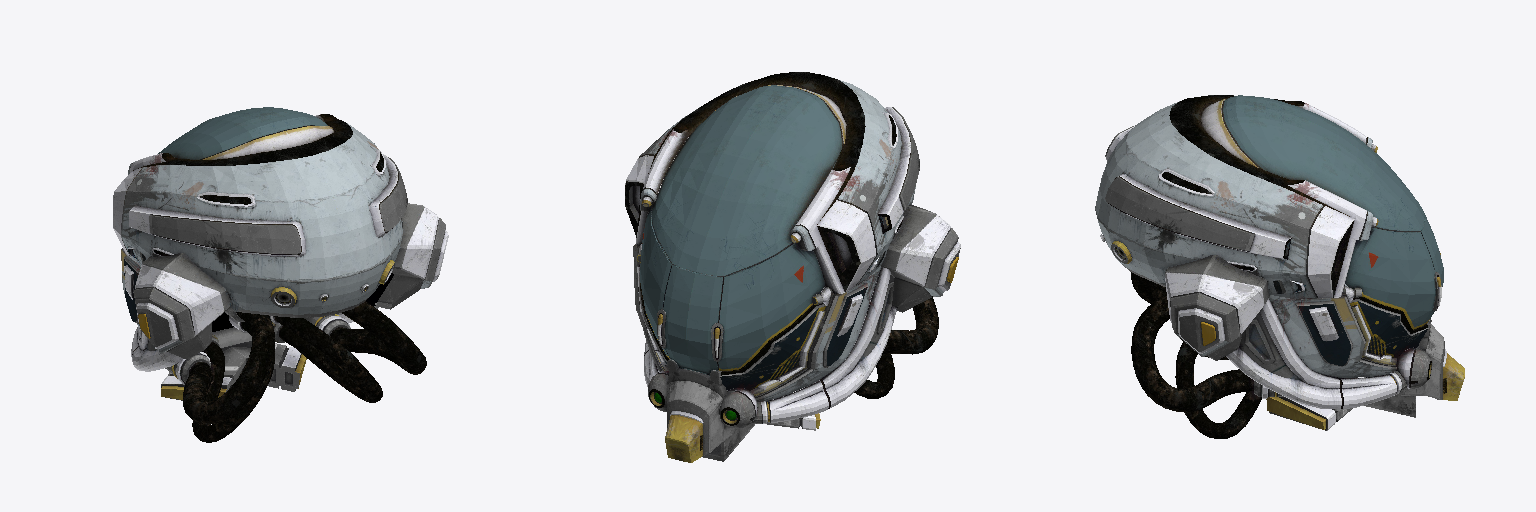
The picture shows the model from 3 angles: view 1: azimuth 30°, elevation 25°; view 2: azimuth 150°, elevation 25°; view 3: azimuth 270°, elevation 25°; orthographic projection.
Parts seen in each view (by area): view 1: helmet; view 2: helmet; view 3: helmet.
Part boxes in pixels (left/top/right/bottom): helmet: left=113, top=107, right=448, bottom=442; helmet: left=625, top=72, right=960, bottom=462; helmet: left=1095, top=95, right=1464, bottom=438.
Bounding box in the file's own units: 1.89 × 1.8 × 2.
Materials: 1 (1 with a texture image).